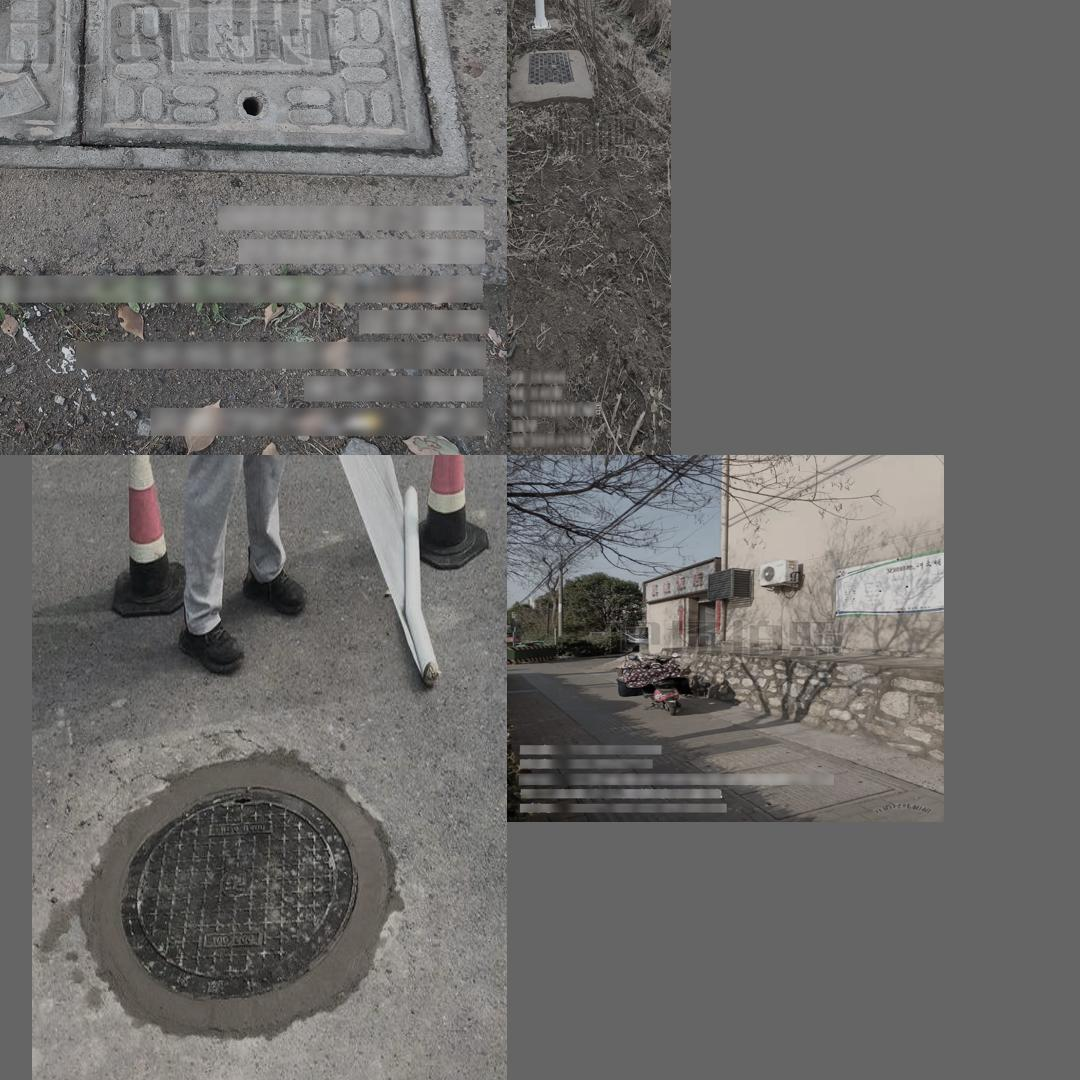good: (66, 728, 400, 1044), (0, 0, 470, 176), (684, 744, 908, 820), (526, 52, 575, 85)
